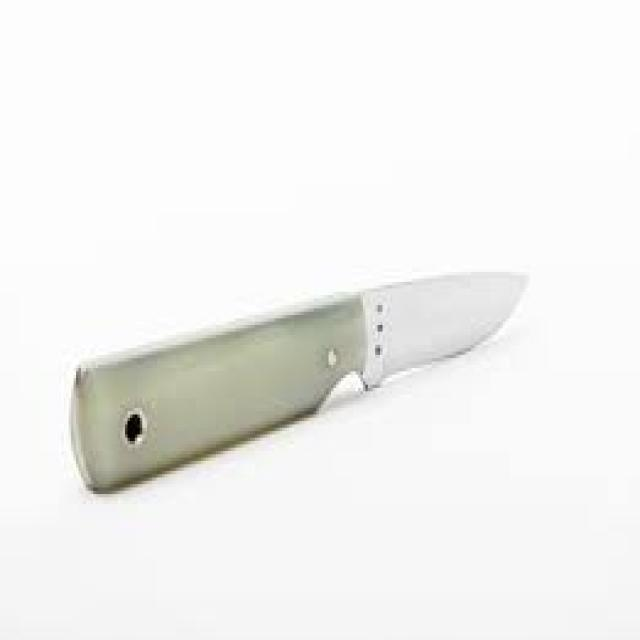knives: (64, 258, 532, 501)
